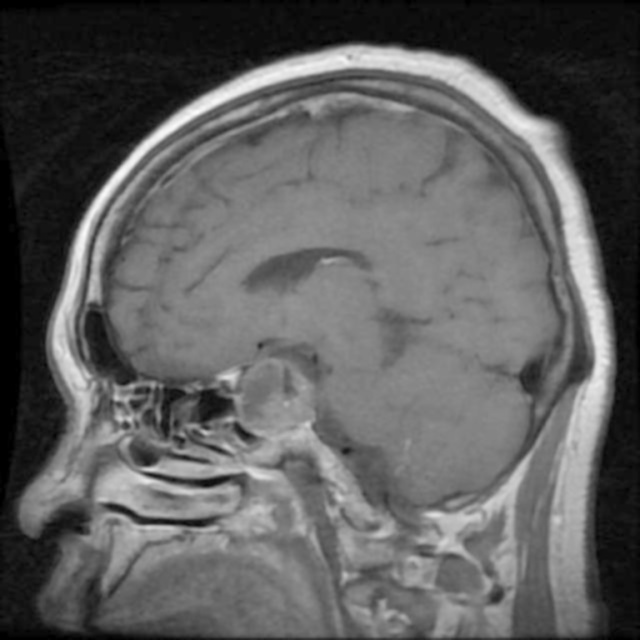no tumor: (230, 358, 332, 437)
